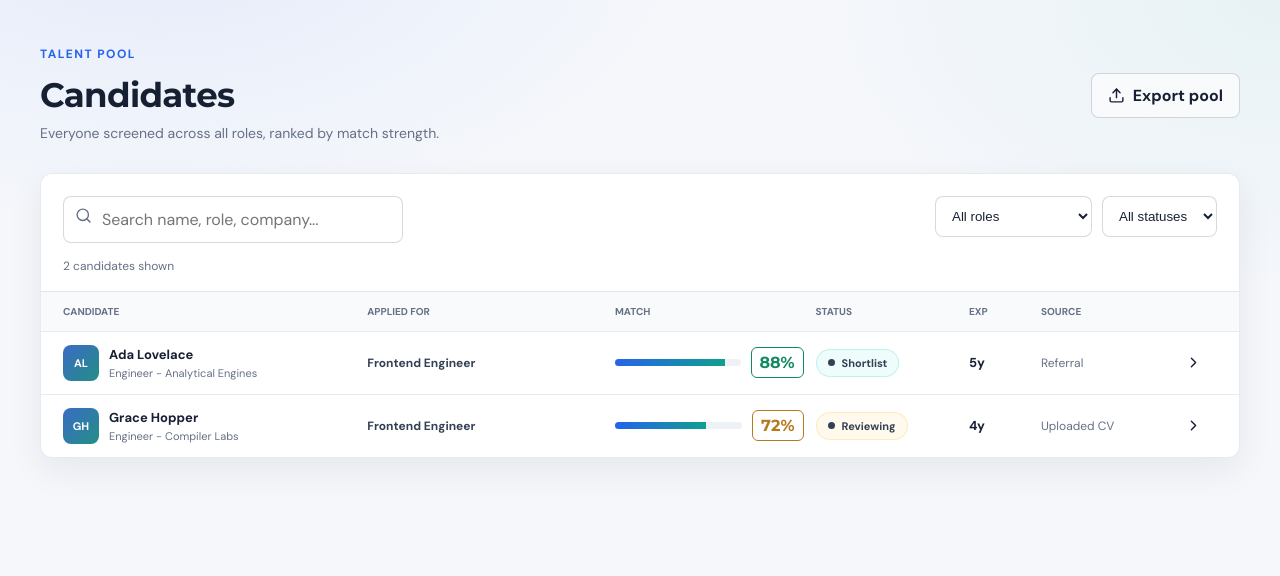
Test: talent pool › filters candidates and exports only when results exist
Check: the text "2 candidates shown" is shown, box [63, 258, 174, 274]
Type "Ada" into the field with placeholder "Search name, role, company..." at (233, 220), box [63, 196, 403, 243]
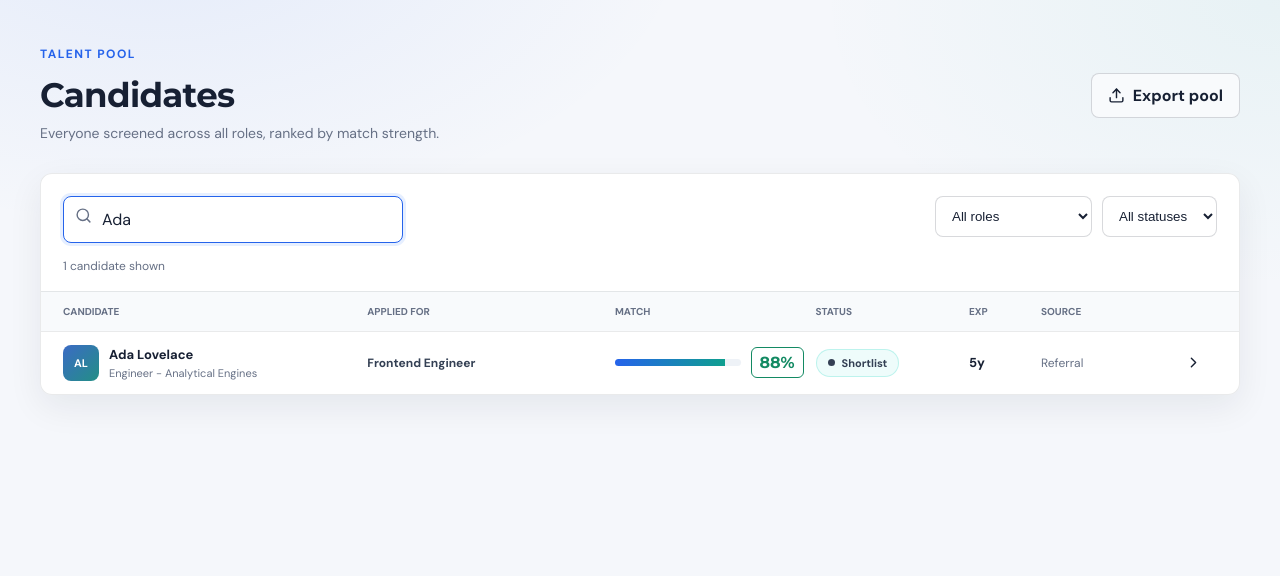
Check: the text "Ada Lovelace" is shown, box [109, 346, 193, 363]
Check: the text "1 candidate shown" is shown, box [63, 258, 165, 274]
Click the button "Export pool" at (1165, 96), box [1091, 73, 1240, 118]
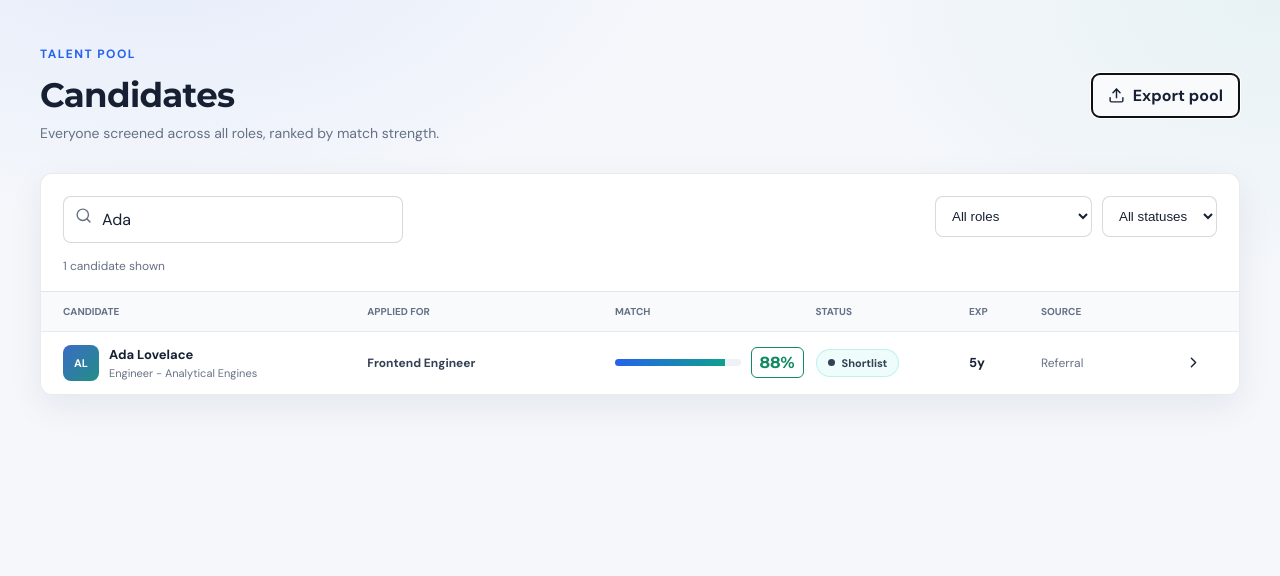
Replace the text in the field with placeholder "Search name, role, company..." with "Nobody" at (233, 220), box [63, 196, 403, 243]
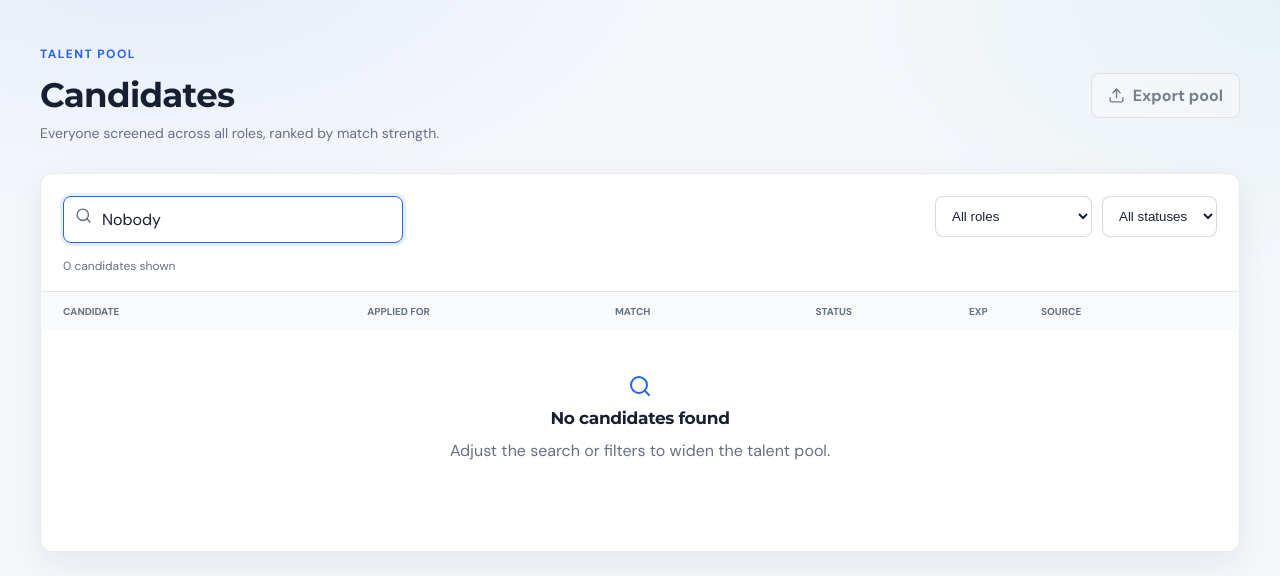
Check: the button "Export pool" is disabled, box [1091, 73, 1240, 118]
Check: the text "Adjust the search or filters to widen the talent pool." is shown, box [450, 438, 830, 464]
